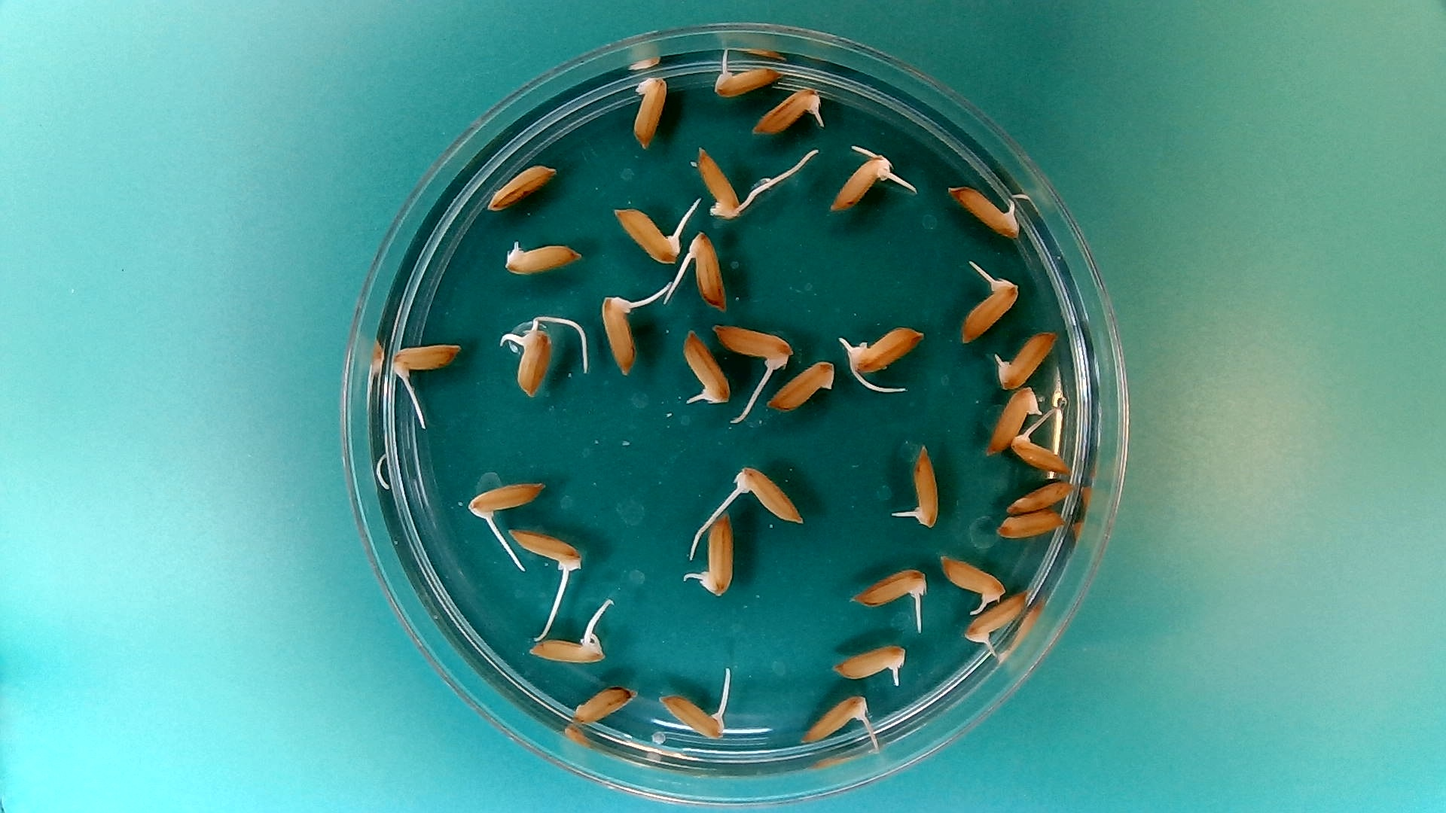no: (764, 355, 839, 413), (984, 384, 1043, 457), (484, 160, 560, 214), (628, 69, 670, 150), (572, 681, 639, 725), (1004, 477, 1076, 515), (996, 506, 1067, 540)
yes: (847, 314, 923, 376), (734, 462, 807, 525), (825, 151, 894, 215), (895, 438, 941, 530), (992, 327, 1059, 390), (614, 206, 685, 265), (956, 274, 1014, 346), (681, 325, 732, 406), (691, 142, 746, 217), (597, 290, 644, 376), (505, 523, 584, 574), (951, 184, 1023, 239), (465, 476, 550, 520), (935, 553, 1007, 604), (964, 588, 1031, 642), (688, 226, 731, 309), (500, 234, 584, 276), (750, 87, 819, 137), (717, 321, 797, 364), (800, 696, 871, 744), (702, 507, 738, 596), (509, 325, 552, 397), (849, 567, 926, 607), (828, 647, 905, 685), (385, 339, 462, 376), (659, 696, 730, 736), (526, 631, 606, 665), (1009, 437, 1073, 476), (710, 64, 778, 97)
